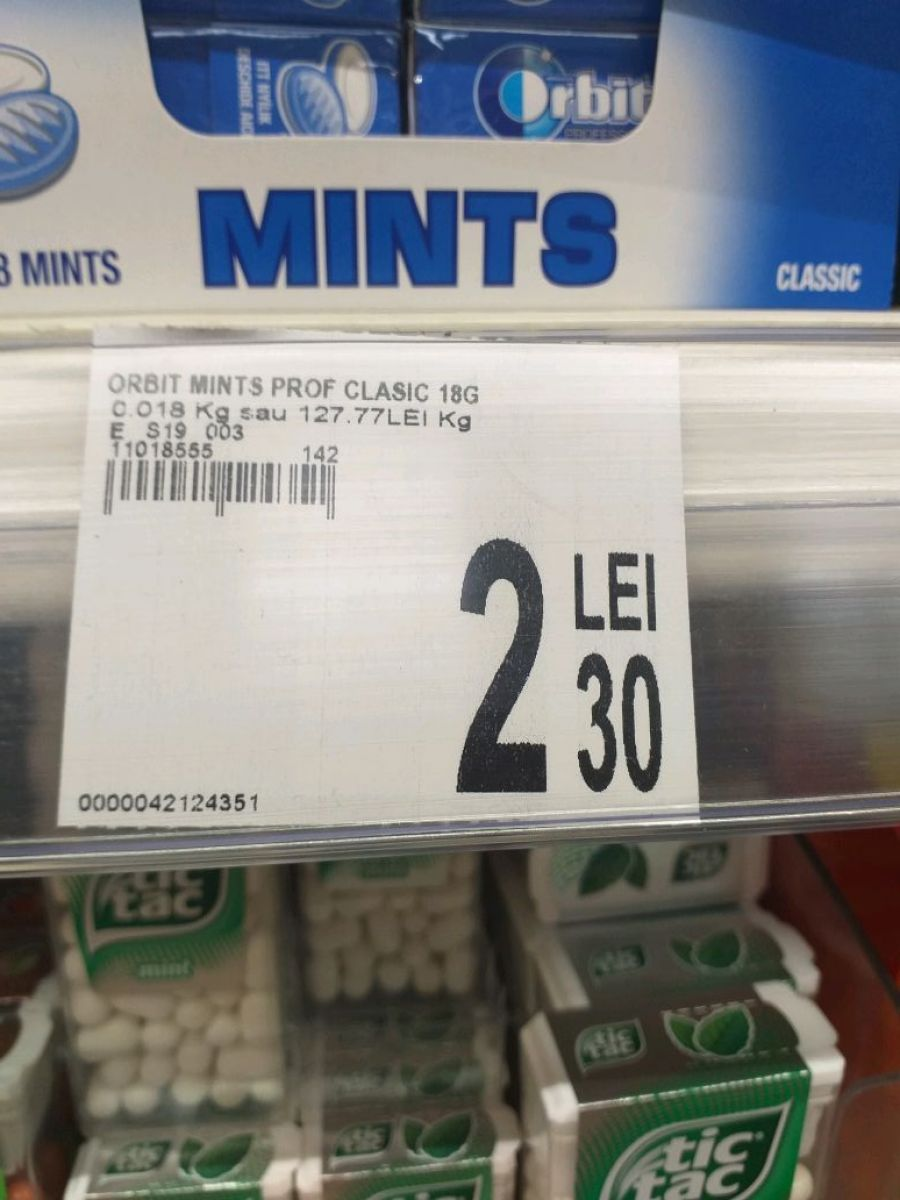bardcode: (78, 788, 261, 817)
list: (39, 324, 714, 833)
name: (109, 371, 484, 406)
price: (446, 525, 671, 799)
